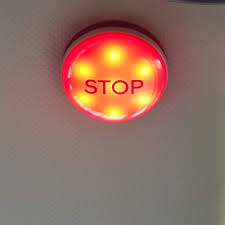bell: (57, 22, 173, 128)
